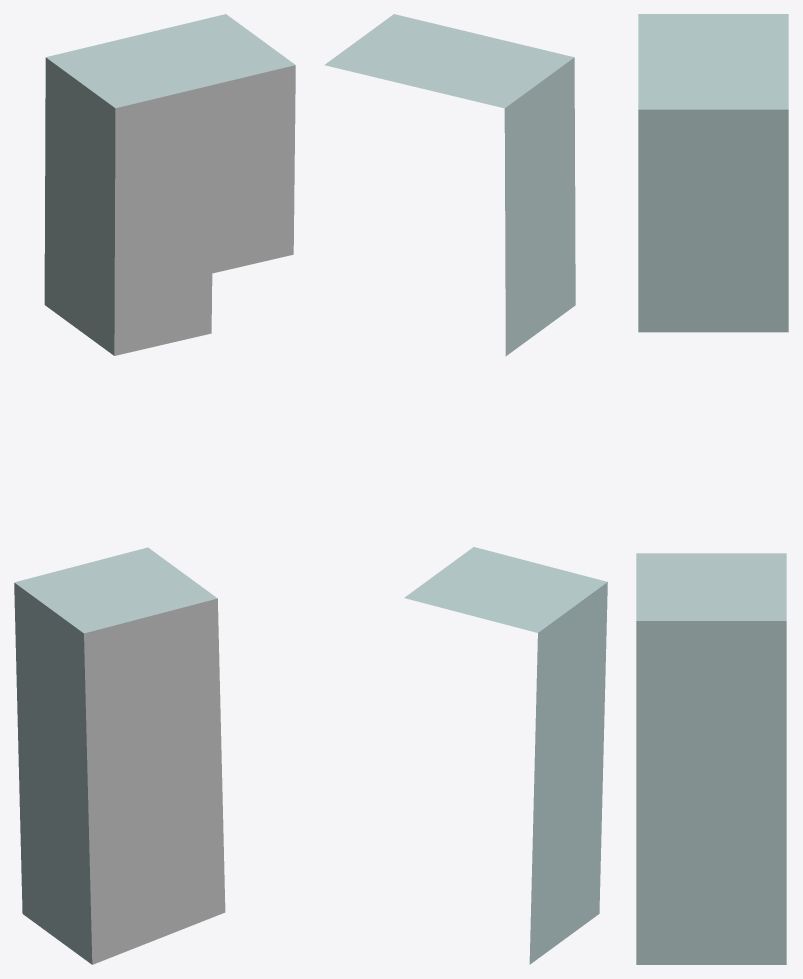
3 renders of one model, left to right at view 1: azimuth 30°, elevation 25°; view 2: azimuth 150°, elevation 25°; view 3: azimuth 270°, elevation 25°, orthographic. The views are drawn at different scales.
Visible parts, largest first — view 1: 0_2_2_1_3_3_0_0_3; view 2: 0_2_2_1_3_3_0_0_3; view 3: 0_2_2_1_3_3_0_0_3.
Boxes of the visible parts, left/top/right/bottom form: 0_2_2_1_3_3_0_0_3: left=14, top=14, right=295, bottom=964; 0_2_2_1_3_3_0_0_3: left=324, top=14, right=607, bottom=964; 0_2_2_1_3_3_0_0_3: left=636, top=14, right=788, bottom=964.
Size of the model in its own units: 5.28 by 20.16 by 3.04.
